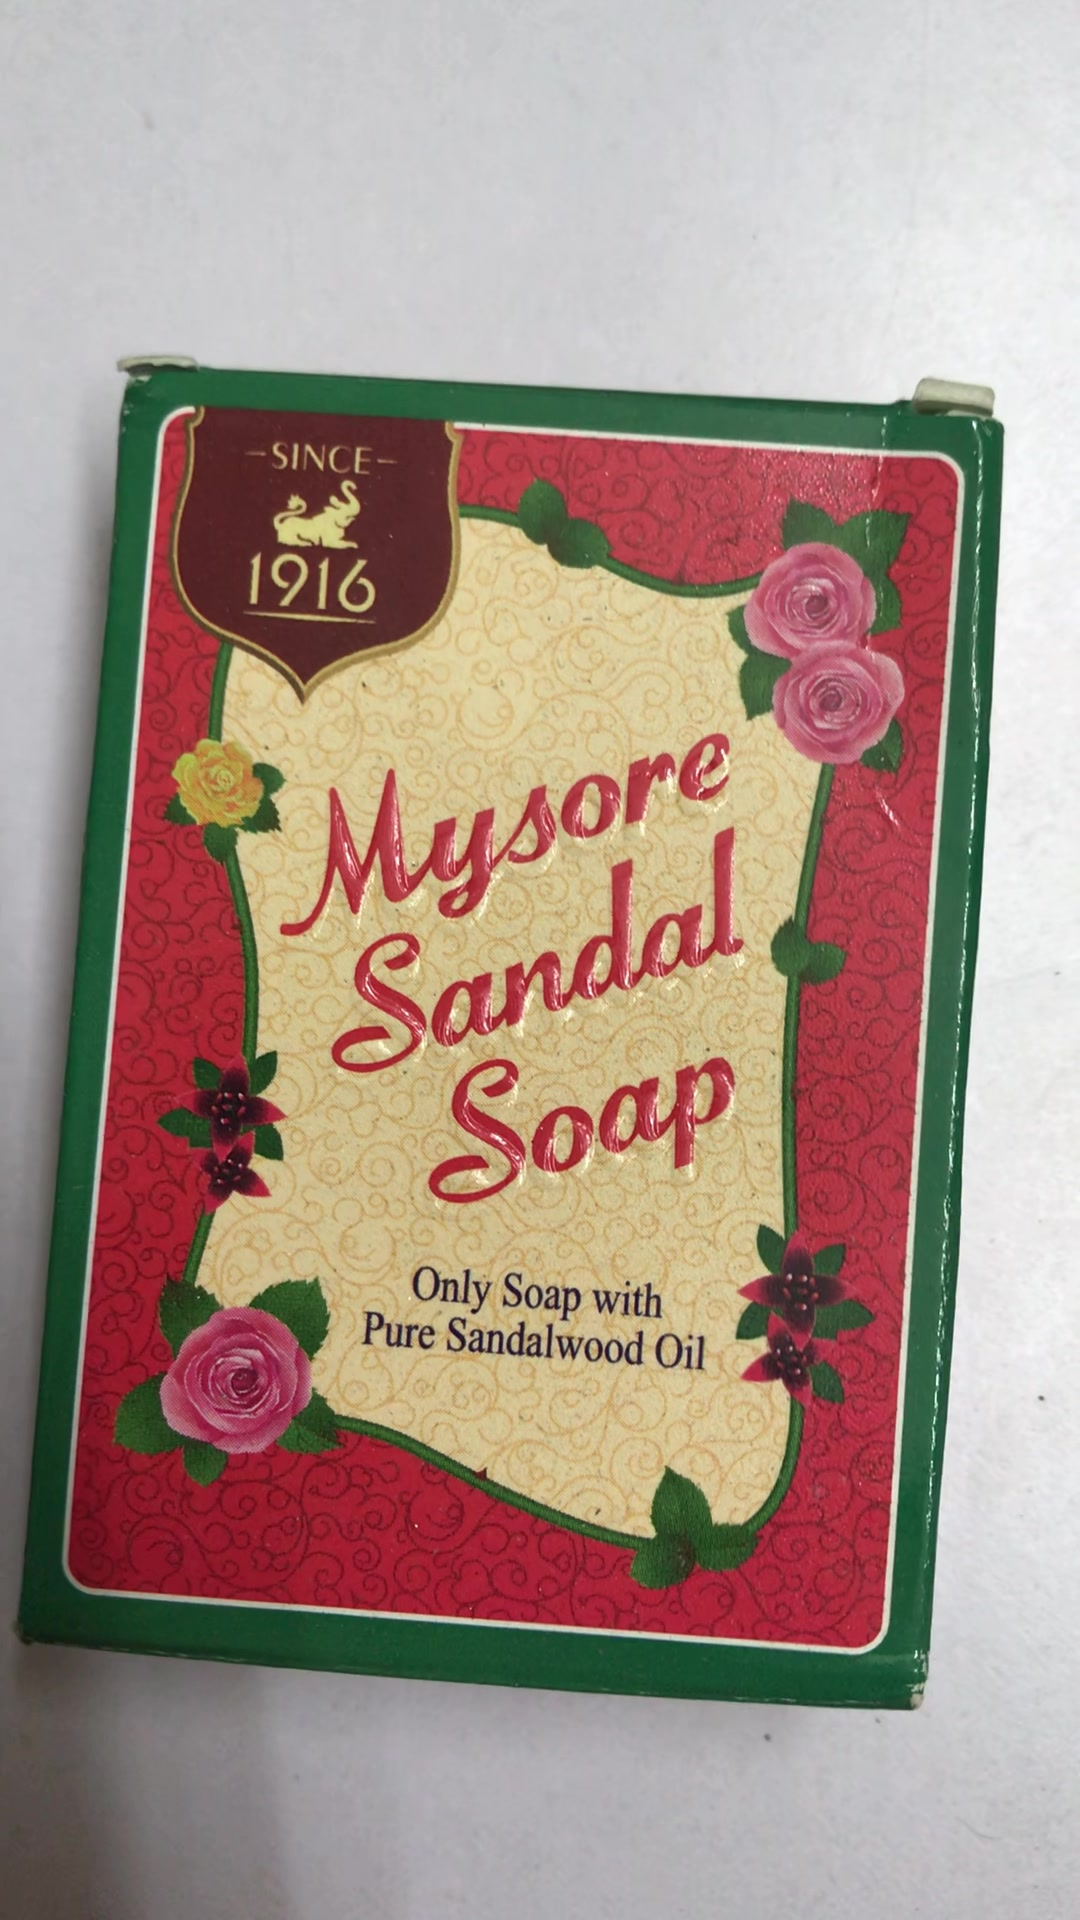mysore sandal soap: (26, 356, 1005, 1716)
